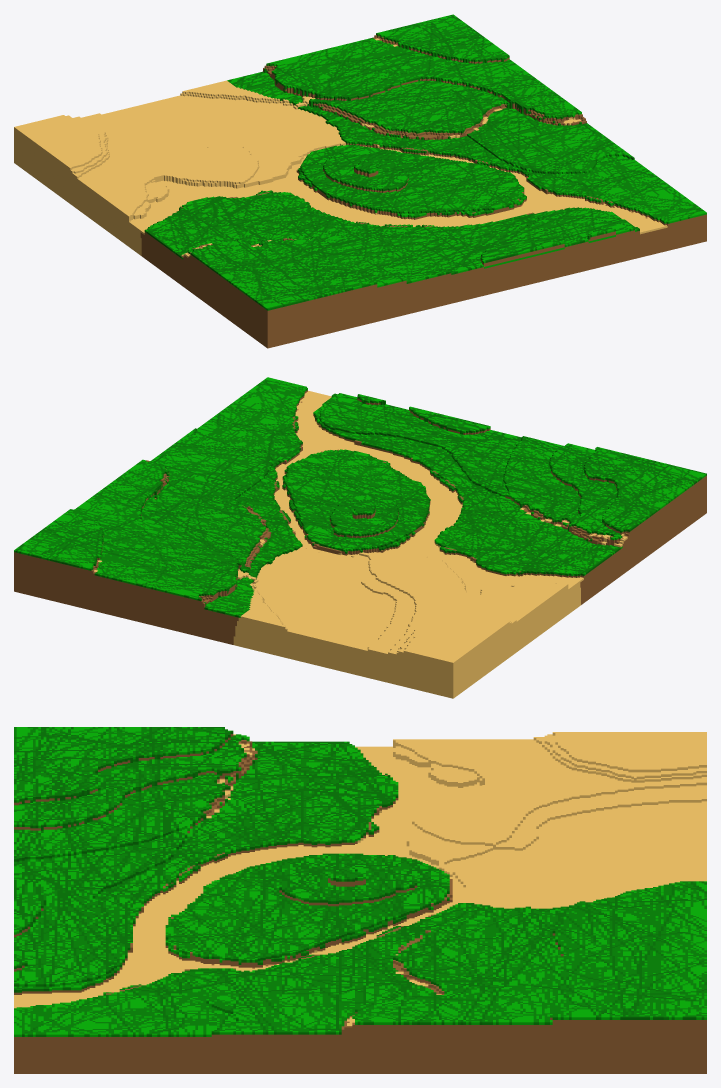
The model's file is Map1.glb.
The picture shows the model from 3 angles, top to bottom: view 1: azimuth 30°, elevation 25°; view 2: azimuth 150°, elevation 25°; view 3: azimuth 270°, elevation 25°; orthographic projection. The views are drawn at different scales.
Parts seen in each view (by area): view 1: Node1; view 2: Node1; view 3: Node1.
Boxes of the visible parts, x1=… form: Node1: x1=14, y1=14, x2=706, y2=348; Node1: x1=14, y1=377, x2=706, y2=698; Node1: x1=14, y1=727, x2=706, y2=1073.
Bounding box in the file's own units: 25.6 × 2.3 × 25.6.
Materials: 1 (1 with a texture image).
